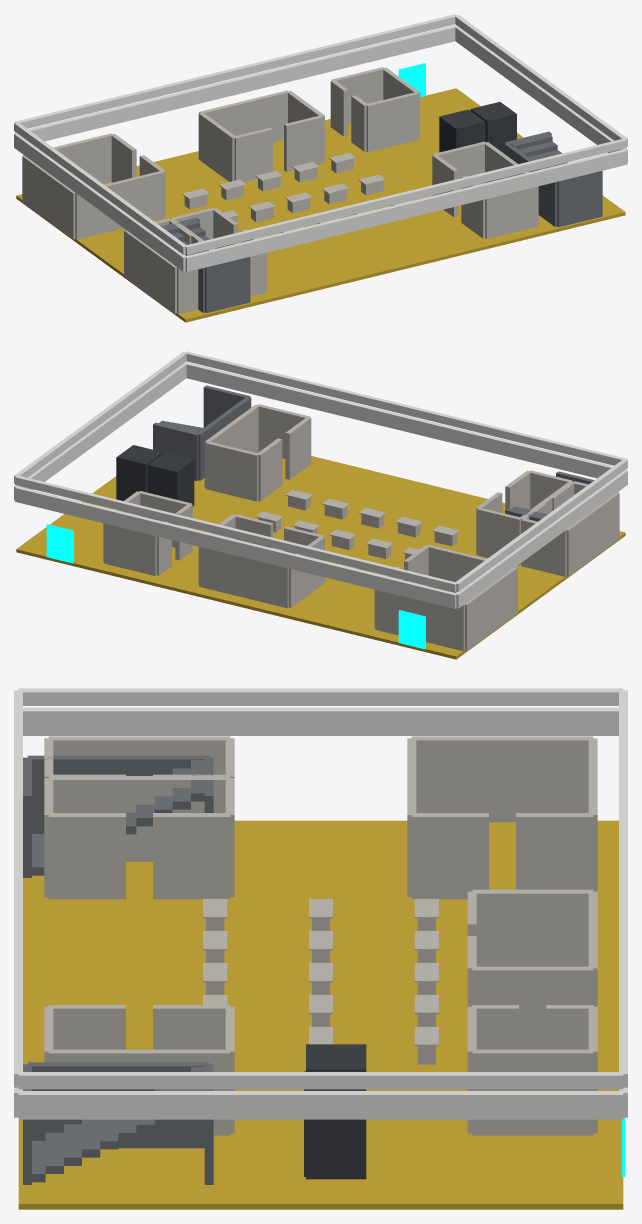
The model's file is Floor_04_Office.fbx.
3 views of the same model, one above another, from view 1: azimuth 30°, elevation 25°; view 2: azimuth 150°, elevation 25°; view 3: azimuth 270°, elevation 25° (orthographic). The views are drawn at different scales.
Parts seen in each view (by area): view 1: F4_Slab, F4_Wall_F, F4_Wall_B, F4_Wall_F_Hdr, F4_Wall_B_Hdr, F4_Wall_L, F4_Conference_S, F4_Wall_R, F4_Pantry_S, F4_Conference_W, F4_RestroomM_W, F4_ManagerOffice_N (+27 smaller); view 2: F4_Slab, F4_Wall_B, F4_Wall_F, F4_Wall_B_Hdr, F4_Wall_F_Hdr, F4_ManagerOffice_N, F4_Wall_L, F4_Conference_N, F4_Wall_R, F4_Storage_N, F4_RestroomM_W, F4_Conference_W (+26 smaller); view 3: F4_Slab, F4_Wall_R, F4_Wall_L, F4_Conference_W, F4_Wall_R_Hdr, F4_Wall_L_Hdr, F4_ManagerOffice_W, F4_RestroomF_E1, F4_RestroomF_E2, F4_Conference_E1, F4_ManagerOffice_E, F4_Conference_E2 (+24 smaller).
Boxes of the visible parts, box(x1,y1,x2,y2) form: F4_Slab: box(16, 88, 625, 322); F4_Wall_F: box(184, 149, 626, 271); F4_Wall_B: box(15, 25, 457, 141); F4_Wall_F_Hdr: box(184, 139, 626, 254); F4_Wall_B_Hdr: box(15, 14, 457, 128); F4_Wall_L: box(14, 133, 185, 271); F4_Conference_S: box(75, 170, 164, 239); F4_Wall_R: box(455, 26, 627, 163); F4_Pantry_S: box(366, 92, 419, 152); F4_Conference_W: box(22, 155, 75, 239); F4_RestroomM_W: box(124, 230, 176, 313); F4_ManagerOffice_N: box(199, 90, 288, 142); F4_Slab: box(16, 449, 625, 659); F4_Wall_B: box(15, 486, 456, 608); F4_Wall_F: box(185, 362, 626, 478); F4_Wall_B_Hdr: box(15, 476, 457, 591); F4_Wall_F_Hdr: box(184, 351, 626, 465); F4_ManagerOffice_N: box(199, 547, 288, 608); F4_Wall_L: box(456, 470, 627, 608); F4_Conference_N: box(375, 590, 465, 651); F4_Wall_R: box(14, 363, 186, 500); F4_Storage_N: box(205, 441, 258, 501); F4_RestroomM_W: box(566, 492, 619, 576); F4_Conference_W: box(465, 567, 517, 650); F4_Slab: box(18, 820, 623, 1209); F4_Wall_R: box(18, 1091, 623, 1119); F4_Wall_L: box(23, 707, 618, 735); F4_Conference_W: box(411, 736, 593, 822); F4_Wall_R_Hdr: box(18, 1072, 623, 1089); F4_Wall_L_Hdr: box(18, 688, 623, 705); F4_ManagerOffice_W: box(472, 889, 593, 966); F4_RestroomF_E1: box(48, 813, 125, 899); F4_RestroomF_E2: box(153, 813, 230, 899); F4_Conference_E1: box(411, 813, 488, 899); F4_ManagerOffice_E: box(472, 966, 593, 1049); F4_Conference_E2: box(516, 813, 593, 889).
Size of the model in its own units: 30.3 by 4.95 by 20.3.
